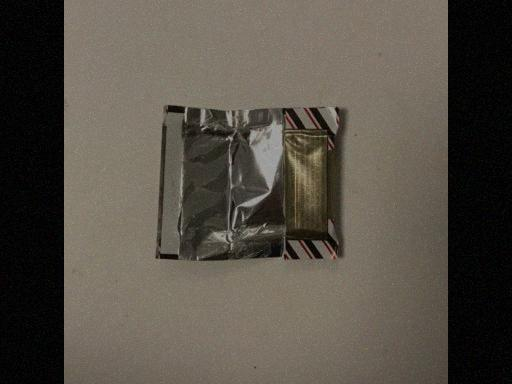trash: (159, 106, 344, 265)
